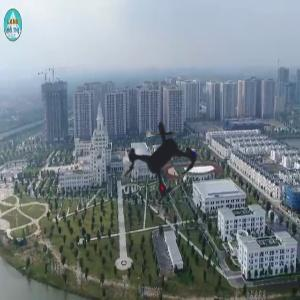drone: (78, 77, 242, 241)
